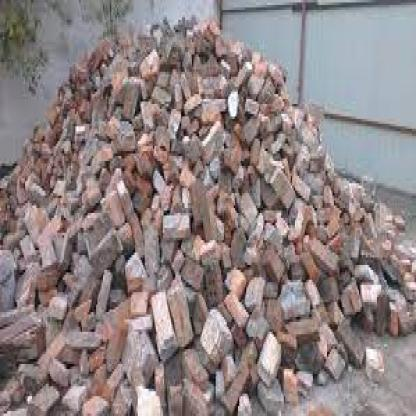brick: (2, 16, 415, 414)
